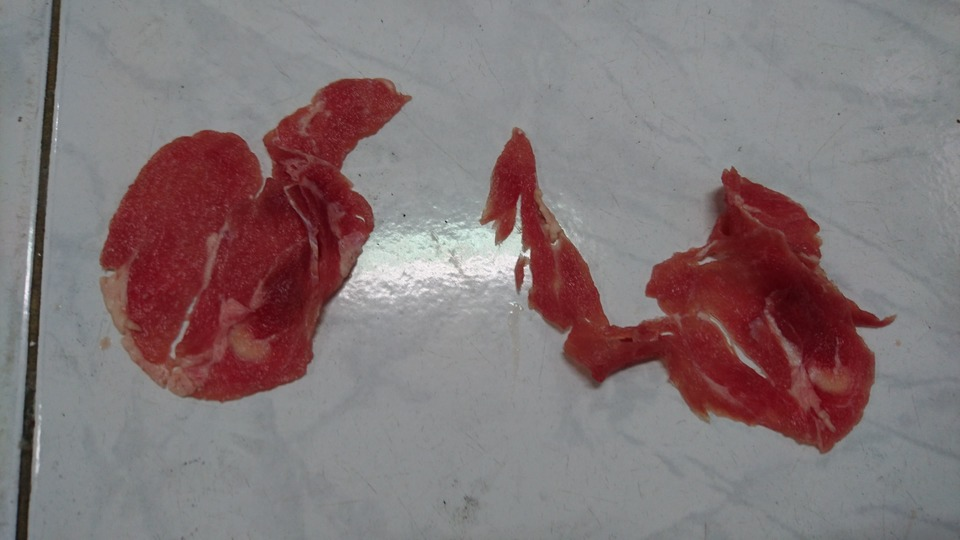restructured meat: (475, 123, 891, 453), (75, 105, 412, 409)
